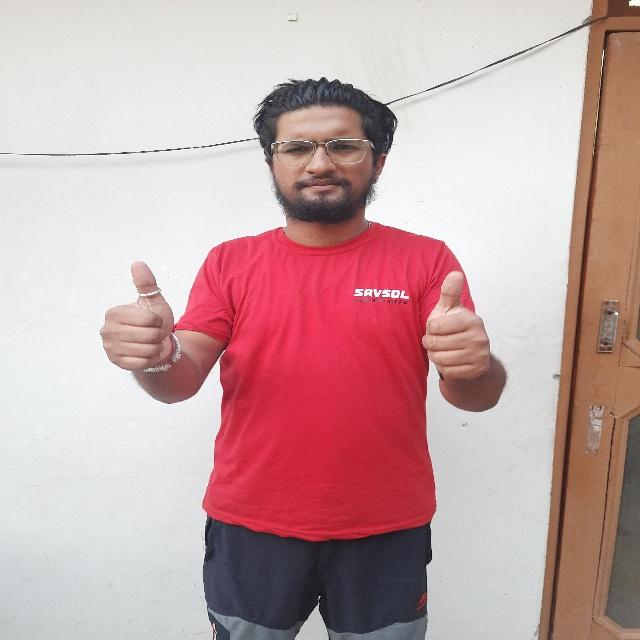Thumbs Up: (91, 252, 196, 385), (410, 254, 504, 393)
